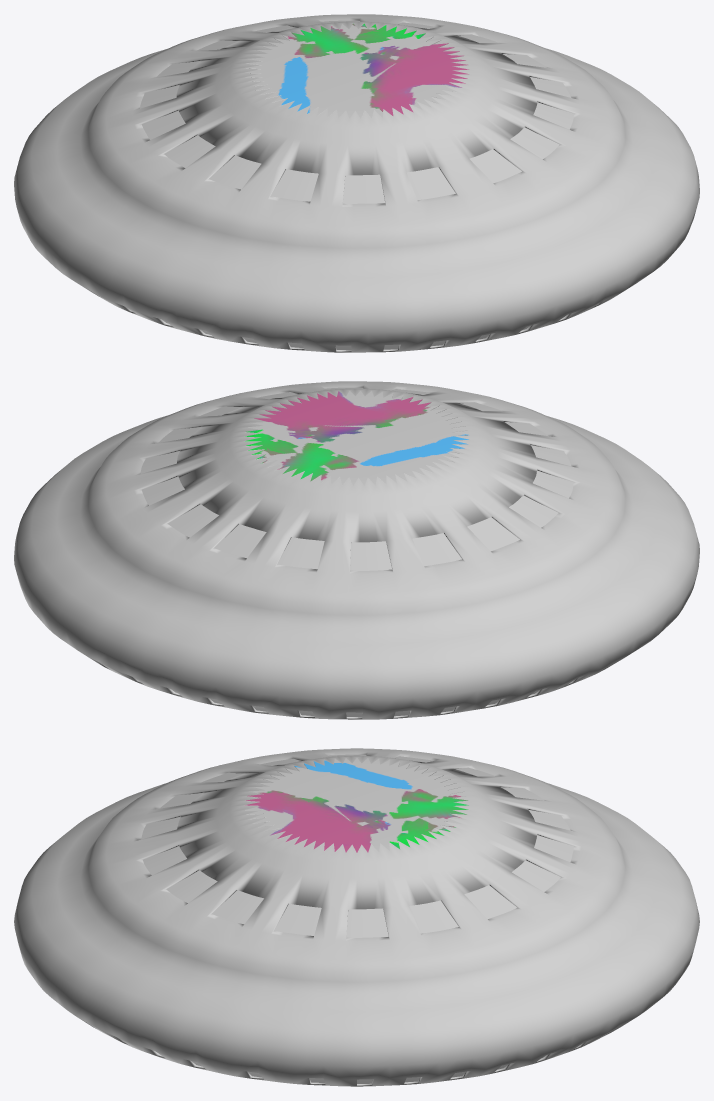
3 renders of one model, top to bottom at view 1: azimuth 30°, elevation 25°; view 2: azimuth 150°, elevation 25°; view 3: azimuth 270°, elevation 25°, orthographic.
Parts seen in each view (by area): view 1: Circle, Circle.003, Circle.002, Circle.001; view 2: Circle, Circle.003, Circle.002; view 3: Circle, Circle.003, Circle.002.
Part boxes in pixels (bbox=[...]): Circle: bbox=[14, 14, 699, 352]; Circle.003: bbox=[245, 23, 468, 118]; Circle.002: bbox=[140, 20, 573, 203]; Circle.001: bbox=[162, 68, 530, 350]; Circle: bbox=[14, 381, 699, 719]; Circle.003: bbox=[245, 390, 468, 485]; Circle.002: bbox=[140, 387, 573, 570]; Circle: bbox=[14, 748, 699, 1086]; Circle.003: bbox=[245, 758, 468, 852]; Circle.002: bbox=[141, 754, 573, 937].
Bounding box in the file's own units: 8.84 × 2.56 × 8.84.
